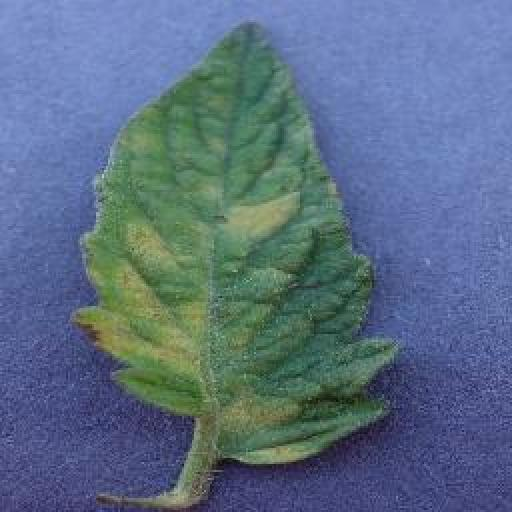Leaf Mold: (75, 22, 406, 466)
